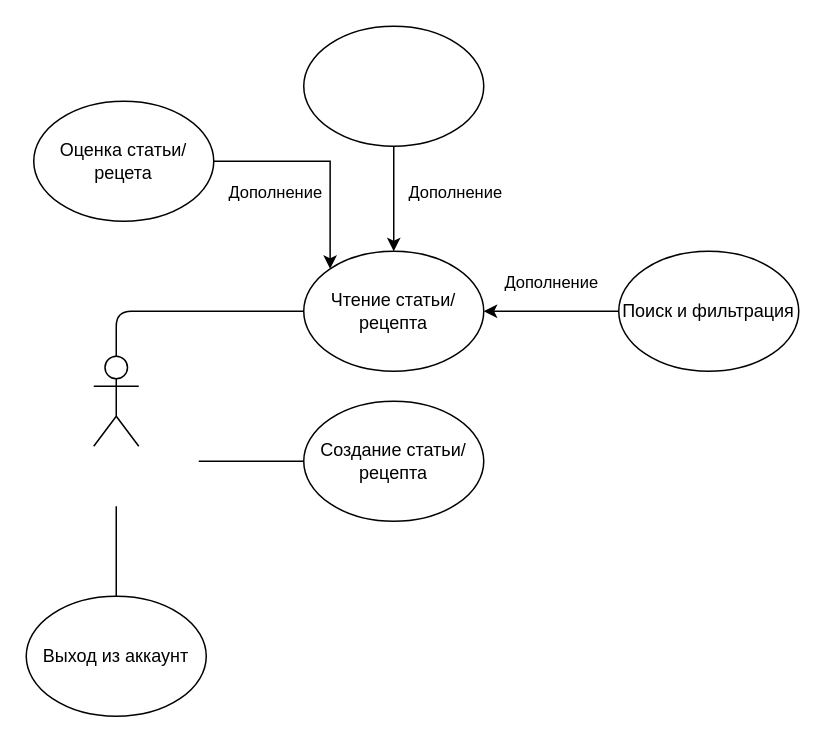
This 825x743 diagram has some shape labels left out. The shapes that lost their labels are listed below. From the top down, each one's box as (x1, y1, x2, y2) in pixels, then its label:
(302, 25, 484, 146): Оставить комментарий
(92, 355, 139, 446): Авторизированный пользователь
